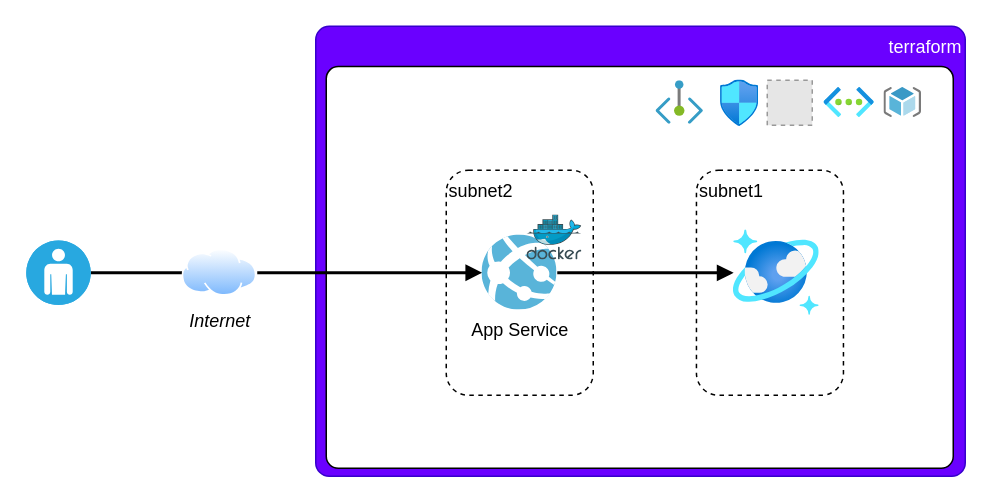
This 992x503 diagram has some shape labels left out. Grey dashed boxes stand in for pictures. Here are the shapes that lost their labels. From the top down, the centre of each, then its label:
At [58,272]: "User".
At [776,272]: "Cosmos".
